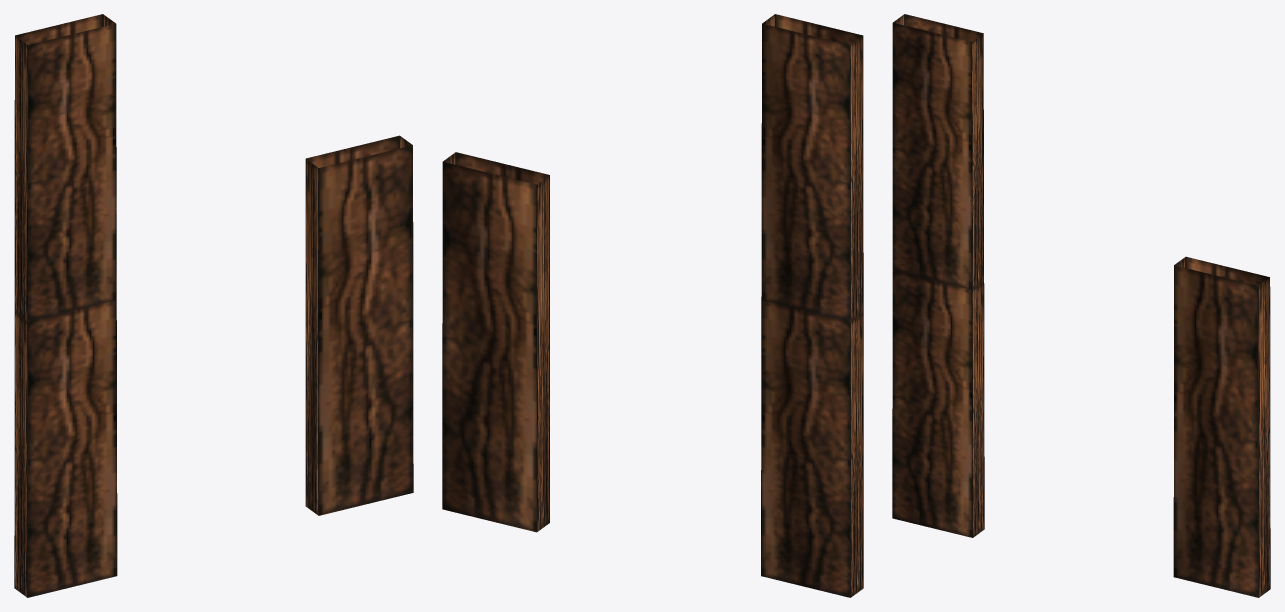
The model's file is LAKETOWN_WAREHOUSE3_PS_WH3_BIGBEAMS2_84847.fbx.
3 views of the same model, side by side, from view 1: azimuth 30°, elevation 25°; view 2: azimuth 150°, elevation 25°; view 3: azimuth 330°, elevation 25° (orthographic). The views are drawn at different scales.
Visible parts, largest first — view 1: LAKETOWN_WAREHOUSE3_PS_WH3_BIGBEAMS2_84847; view 2: LAKETOWN_WAREHOUSE3_PS_WH3_BIGBEAMS2_84847; view 3: LAKETOWN_WAREHOUSE3_PS_WH3_BIGBEAMS2_84847.
Boxes of the visible parts, x1,y1,x2,y2 form: LAKETOWN_WAREHOUSE3_PS_WH3_BIGBEAMS2_84847: [14, 14, 413, 597]; LAKETOWN_WAREHOUSE3_PS_WH3_BIGBEAMS2_84847: [442, 14, 863, 597]; LAKETOWN_WAREHOUSE3_PS_WH3_BIGBEAMS2_84847: [892, 14, 1270, 597].
Size of the model in its own units: 43309 by 57593 by 4613.
Materials: 1 (1 with a texture image).
